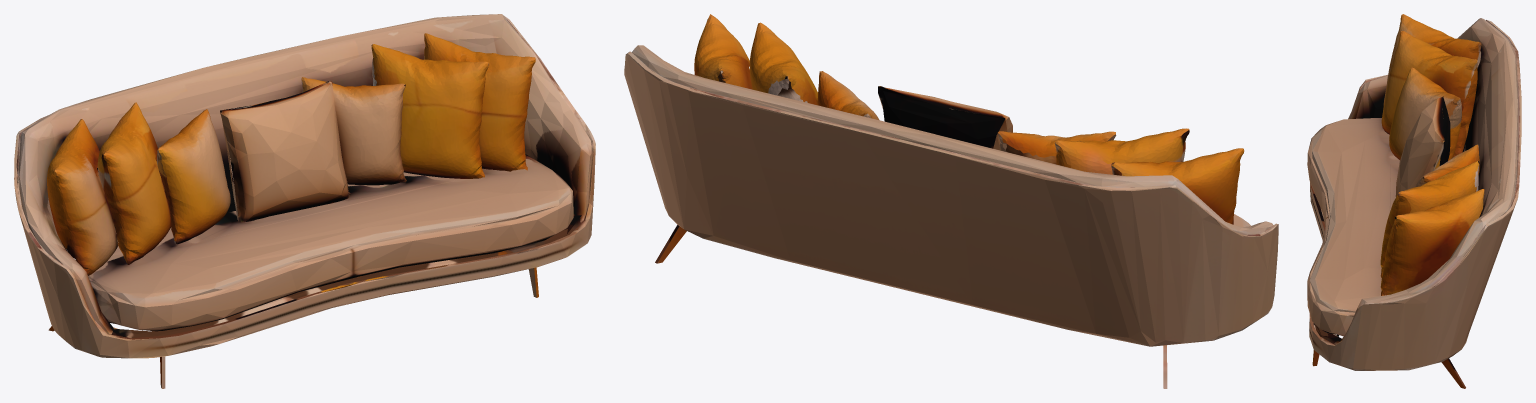
Rendered from edited_mesh.glb.
3 renders of one model, left to right at view 1: azimuth 30°, elevation 25°; view 2: azimuth 150°, elevation 25°; view 3: azimuth 270°, elevation 25°, orthographic. The views are drawn at different scales.
Parts seen in each view (by area): view 1: solid_001_wire; view 2: solid_001_wire; view 3: solid_001_wire.
Part boxes in pixels (left/top/right/bottom): solid_001_wire: left=14, top=14, right=595, bottom=388; solid_001_wire: left=624, top=14, right=1278, bottom=388; solid_001_wire: left=1307, top=14, right=1521, bottom=388.
Size of the model in its own units: 2 by 0.7102 by 0.7886.
Materials: 1 (1 with a texture image).
